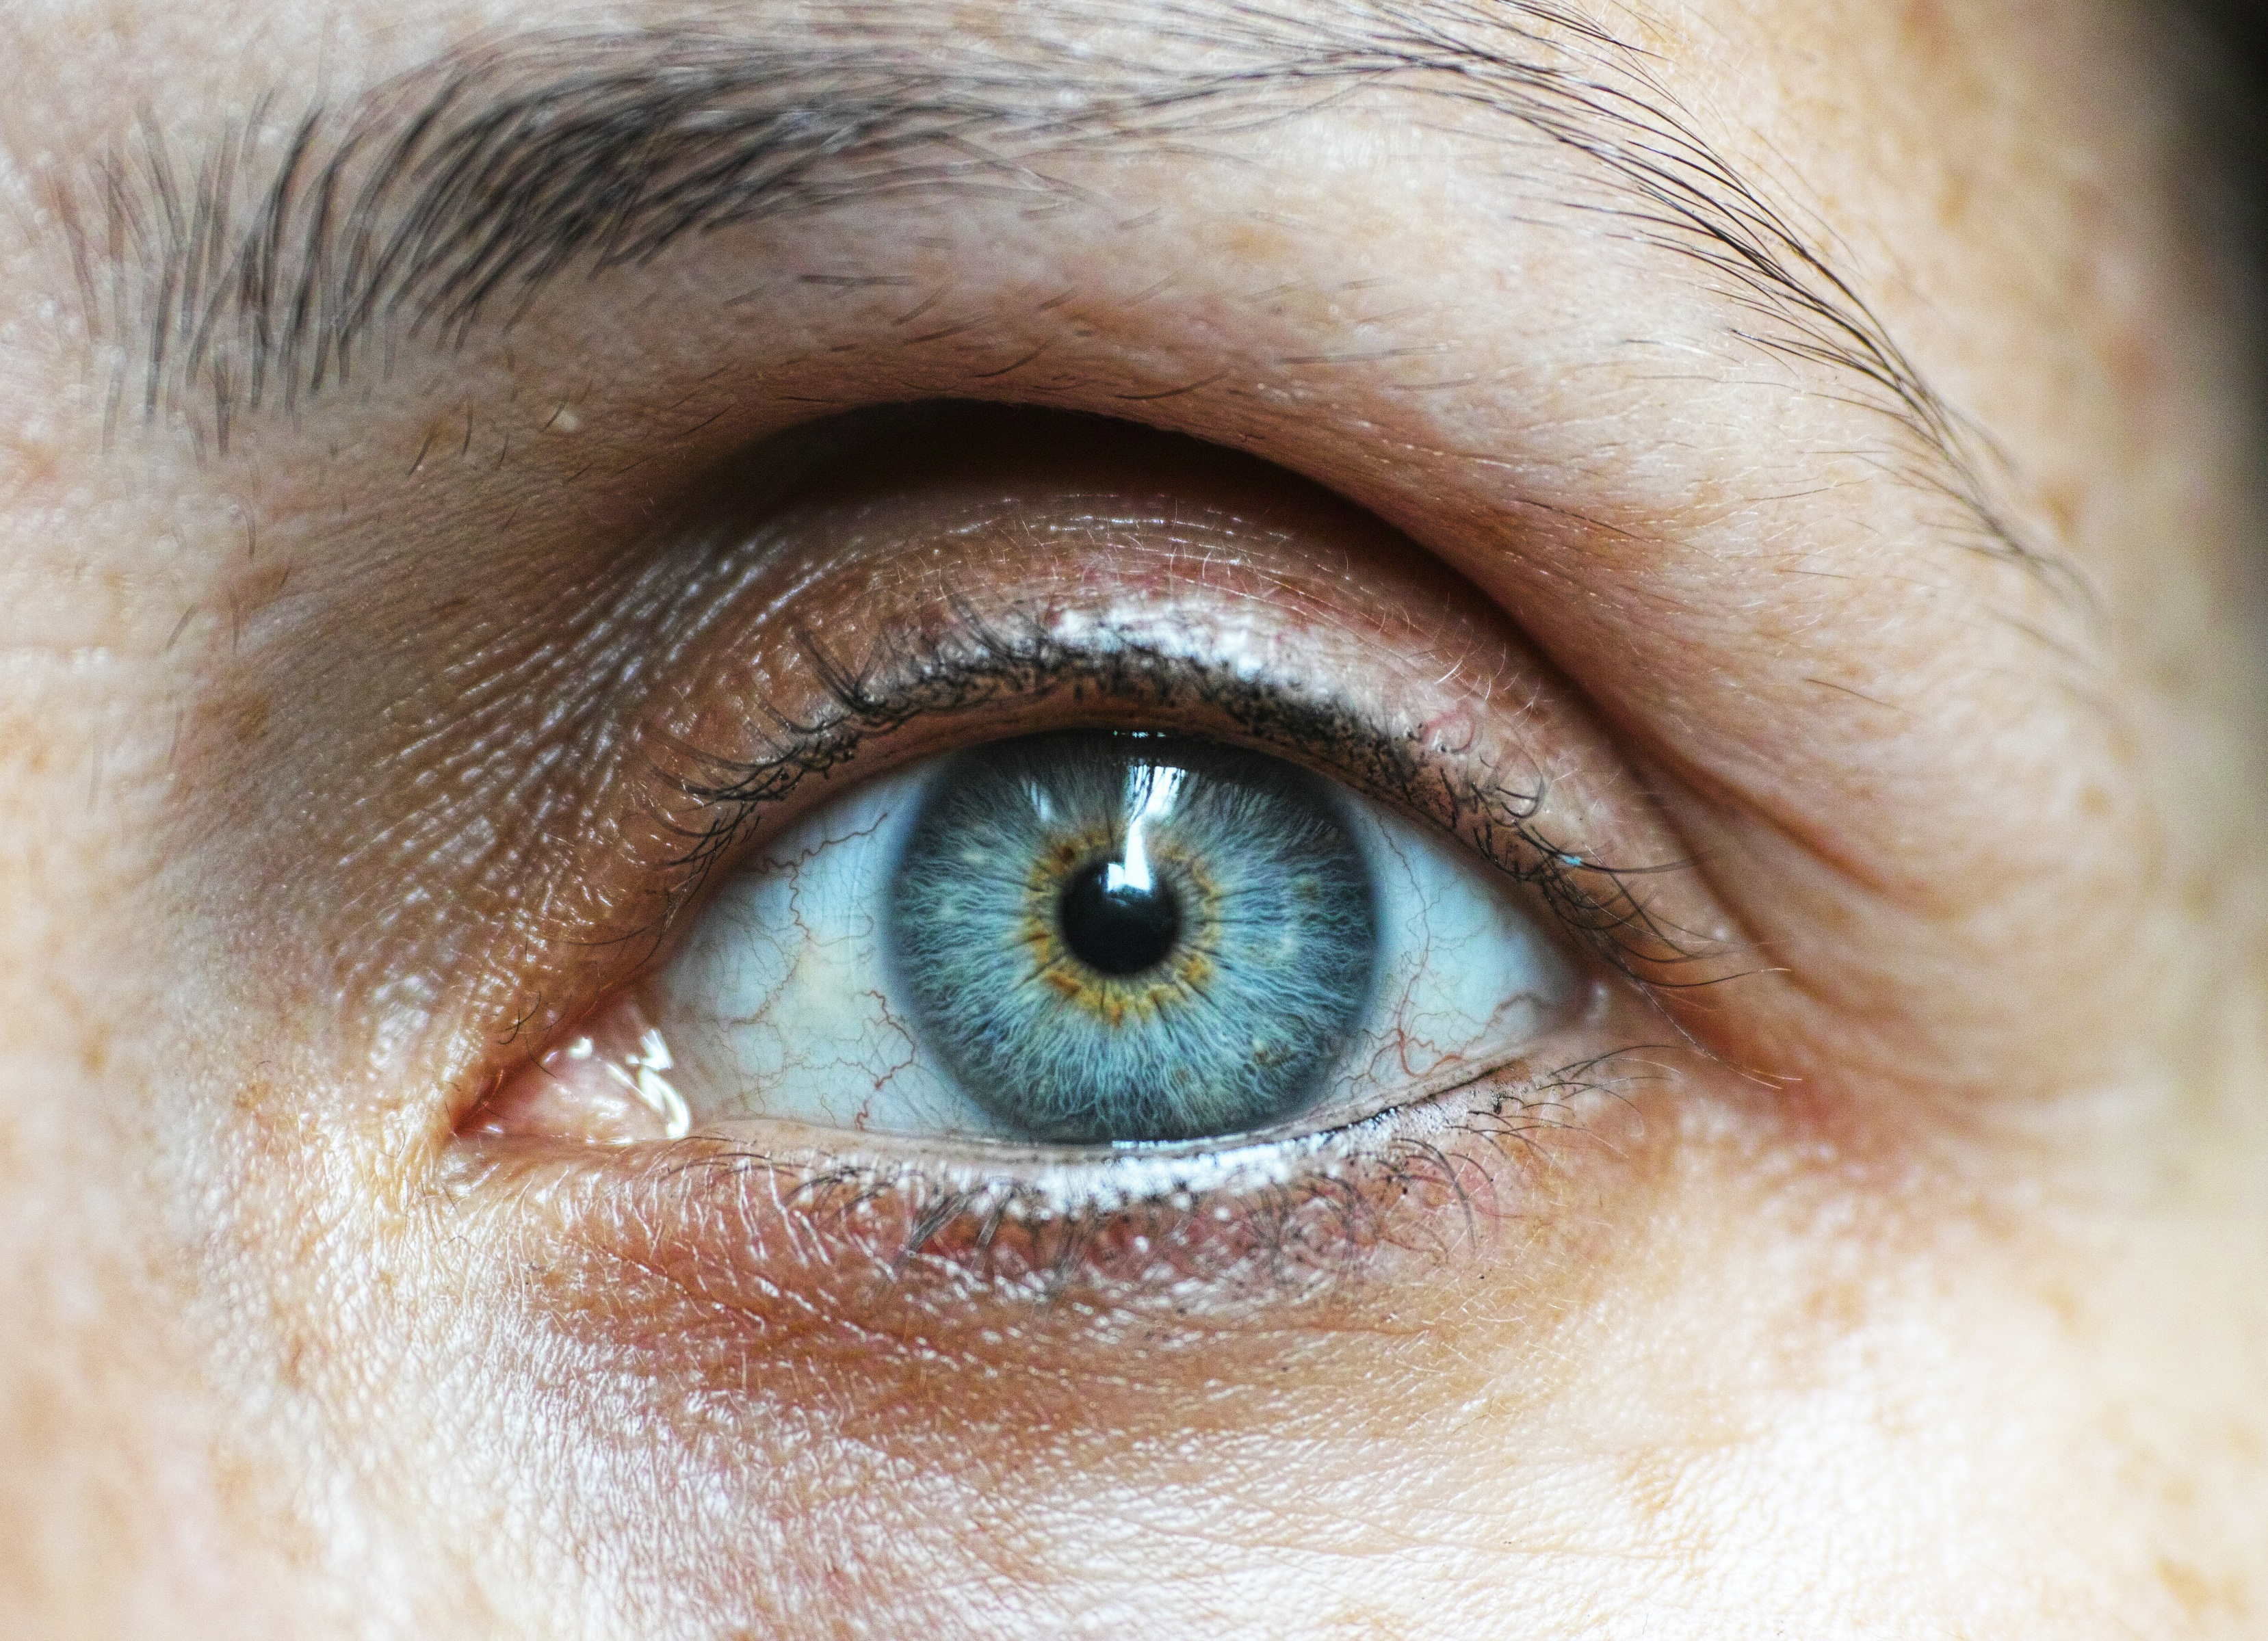iris: (884, 663, 1381, 1146)
pupil: (1045, 848, 1190, 981)
